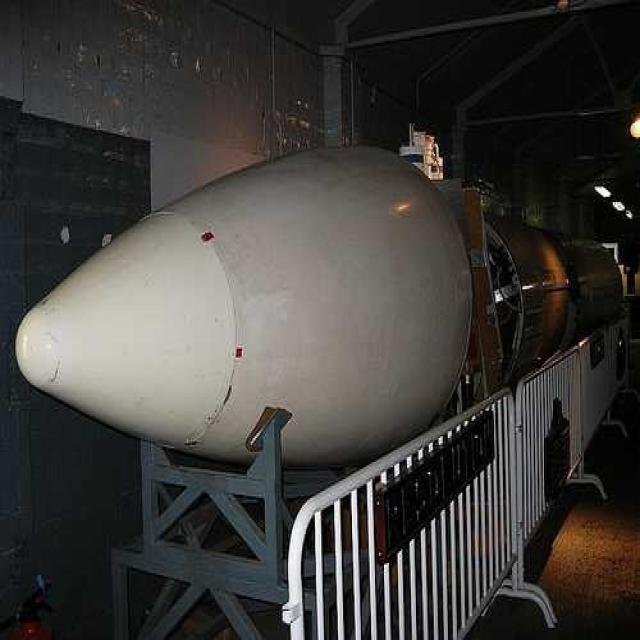missile: (7, 139, 631, 462)
